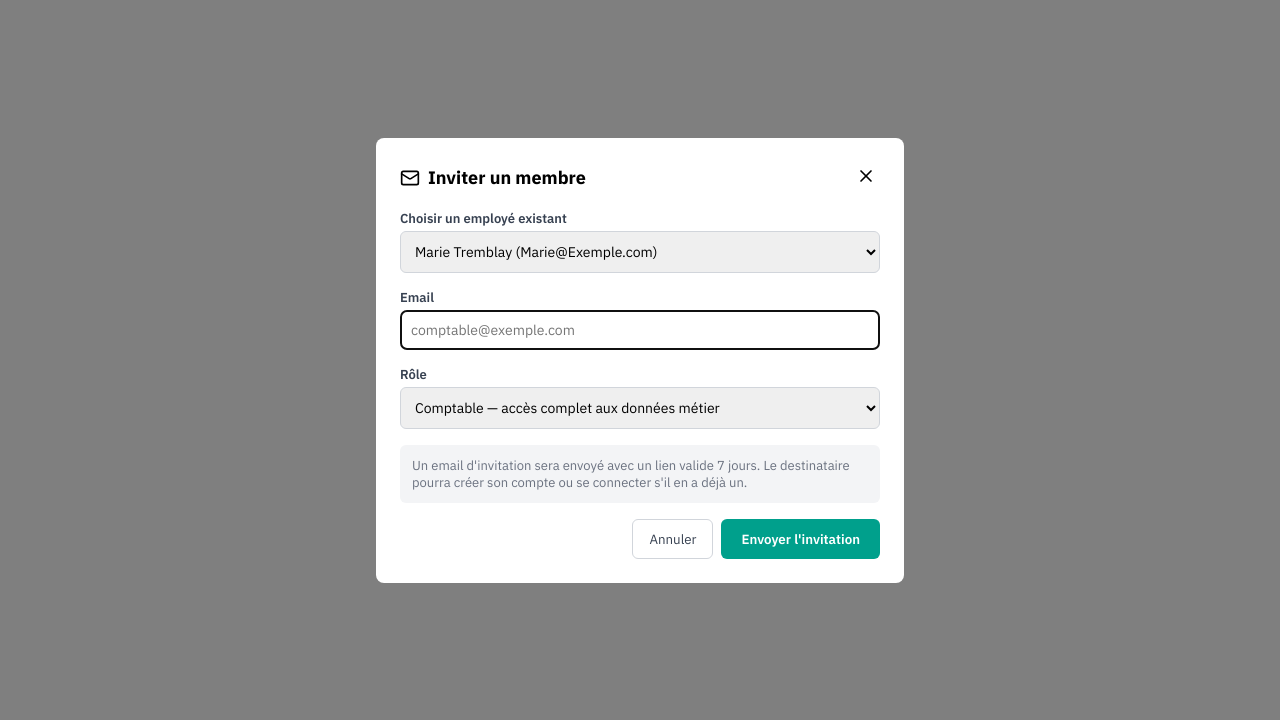
Test: préremplit le courriel et le rôle Employé
Select "Marie Tremblay (Marie@Exemple.com)" in the dropdown with test id "invite-employee-select" at [640, 252], box [400,230,880,272]
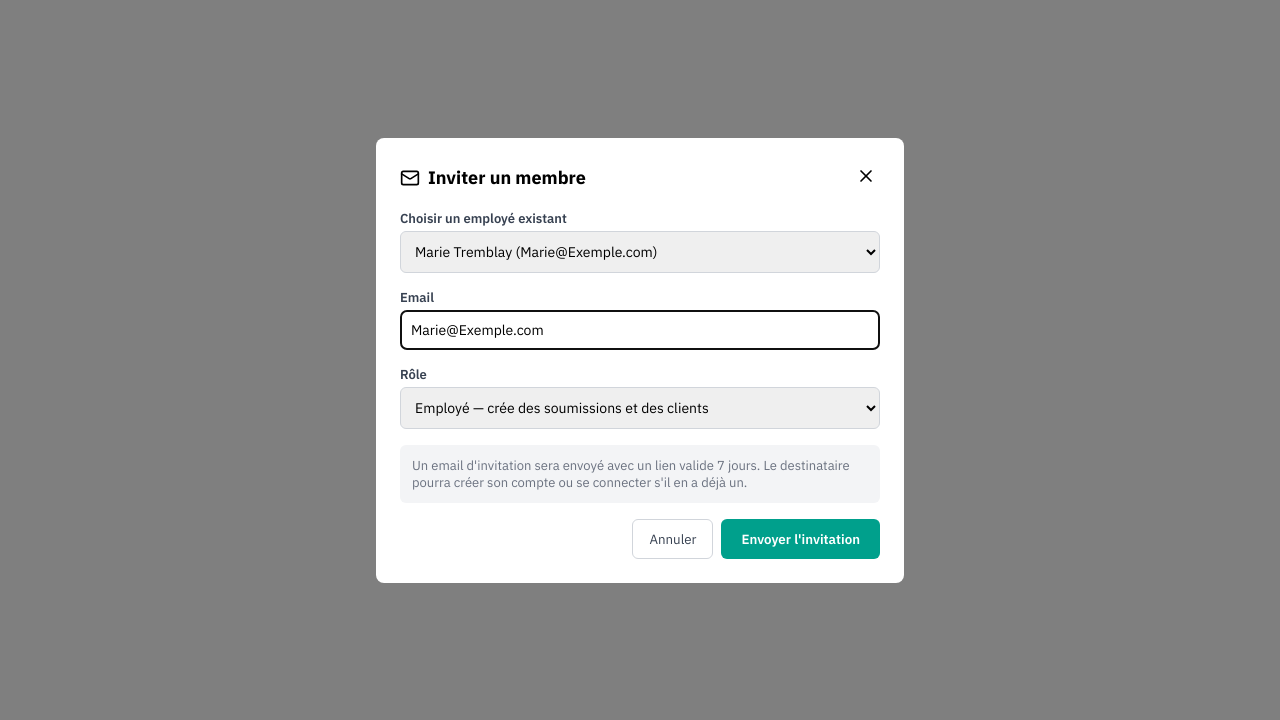
Now the field holds "Marie@Exemple.com", box [400,310,880,350]
Now the dropdown below "Rôle" shows "Employé — crée des soumissions et des clients", box [400,386,880,428]
